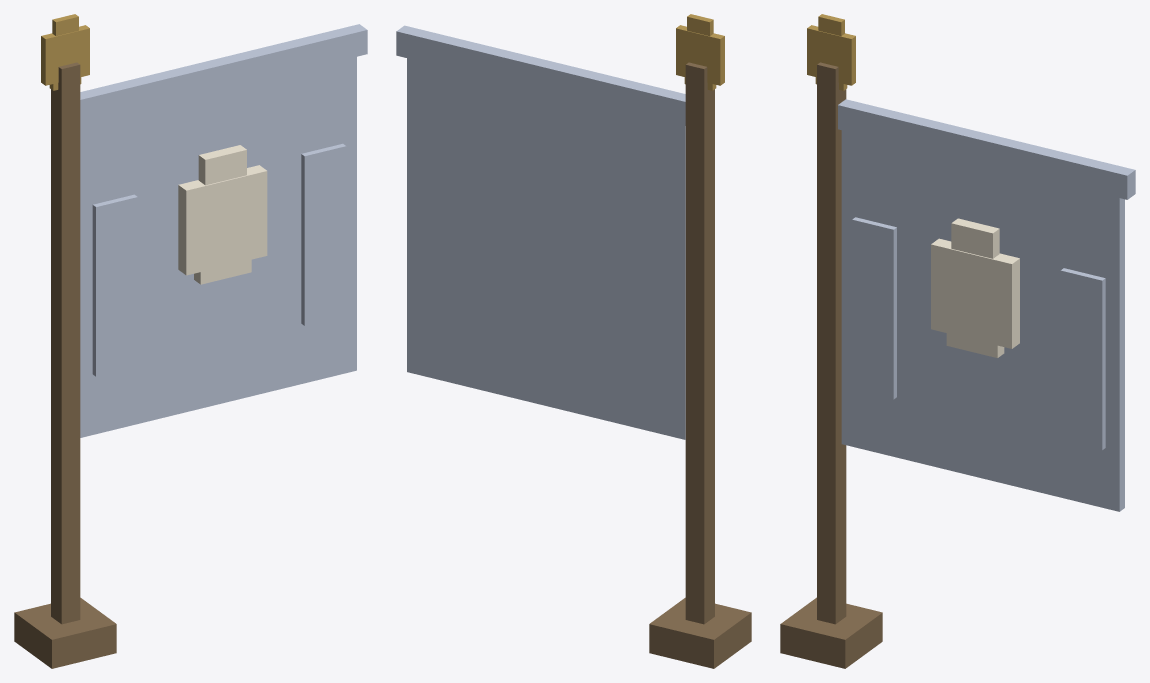
File: cosmetic_banner_moonlit_bunting.glb
3 views of the same model, side by side, from view 1: azimuth 30°, elevation 25°; view 2: azimuth 150°, elevation 25°; view 3: azimuth 330°, elevation 25° (orthographic).
Visible parts, largest first — view 1: CosmeticArt_cloth, CosmeticArt_pole, CosmeticArt_crest, CosmeticArt_finial; view 2: CosmeticArt_cloth, CosmeticArt_pole, CosmeticArt_finial; view 3: CosmeticArt_cloth, CosmeticArt_pole, CosmeticArt_crest, CosmeticArt_finial.
Part boxes in pixels (x1=…): CosmeticArt_cloth: x1=80, y1=24, x2=367, y2=437; CosmeticArt_pole: x1=14, y1=62, x2=116, y2=668; CosmeticArt_crest: x1=178, y1=145, x2=267, y2=284; CosmeticArt_finial: x1=41, y1=14, x2=89, y2=90; CosmeticArt_cloth: x1=396, y1=25, x2=685, y2=439; CosmeticArt_pole: x1=649, y1=62, x2=751, y2=668; CosmeticArt_finial: x1=676, y1=14, x2=724, y2=90; CosmeticArt_cloth: x1=838, y1=99, x2=1135, y2=511; CosmeticArt_pole: x1=780, y1=62, x2=882, y2=668; CosmeticArt_crest: x1=931, y1=218, x2=1019, y2=357; CosmeticArt_finial: x1=807, y1=14, x2=855, y2=90.
Bounding box in the file's own units: 1.43 × 2.6 × 0.28.
